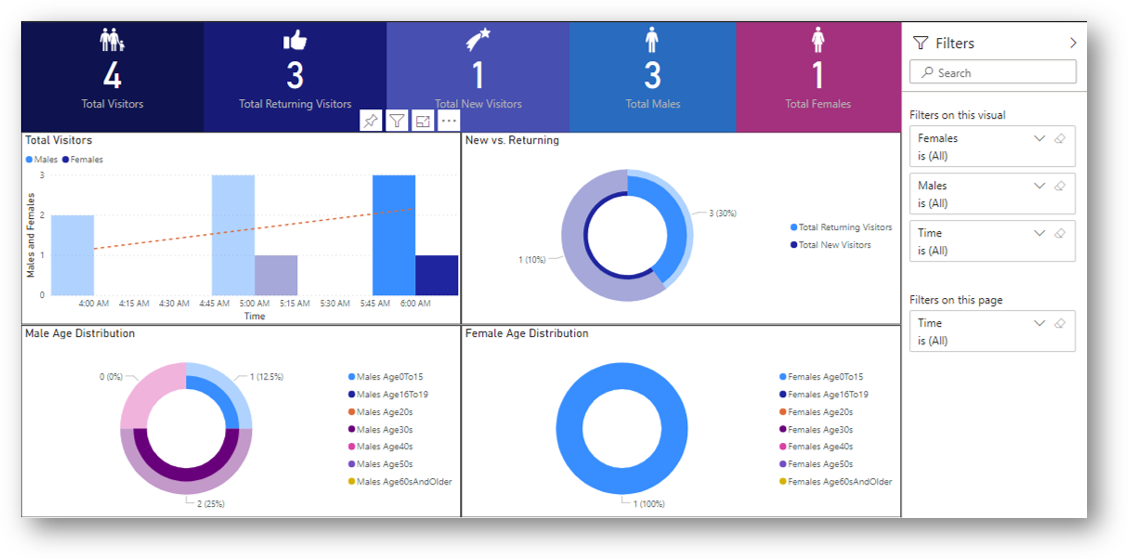

Layout of this report page (visuals, bound fields, positions):
{"tool":"powerbi","page":{"name":"Crowd Analytics","canvas":[1280,720],"ordinal":0},"visuals":[{"type":"clusteredColumnChart","title":"Total Visitors","fields":{"Category":["crowd-demographics.Document.WindowStart Hierarchy.Document.WindowStart"],"Y":["Sum(crowd-demographics.Total Males)","Sum(crowd-demographics.Document.TotalFemales)"]},"box":[0,159.7,640,280.1],"z":0},{"type":"donutChart","title":"Female Age Distribution","fields":{"Y":["Sum(crowd-demographics.Females Age0To15)","Sum(crowd-demographics.Females Age16To19)","Sum(crowd-demographics.Females Age20s)","Sum(crowd-demographics.Females Age30s)","Sum(crowd-demographics.Females Age40s)","Sum(crowd-demographics.Females Age50s)","Sum(crowd-demographics.Females Age60sAndOlder)"]},"box":[640,439.8,640,280.1],"z":1000},{"type":"donutChart","title":"Male Age Distribution","fields":{"Y":["Sum(crowd-demographics.Males Age0To15)","Sum(crowd-demographics.Males Age16To19)","Sum(crowd-demographics.Males Age20s)","Sum(crowd-demographics.Males Age30s)","Sum(crowd-demographics.Males Age40s)","Sum(crowd-demographics.Males Age50s)","Sum(crowd-demographics.Males Age60sAndOlder)"]},"box":[0,439.8,640,280.1],"z":2000},{"type":"donutChart","title":"New vs. Returning","fields":{"Y":["Sum(crowd-demographics.Total Returning Visitors)","Sum(crowd-demographics.Total New Visitors)"]},"box":[640,159.7,640,280.1],"z":3000},{"type":"card","fields":{"Values":["Sum(crowd-demographics.Total Females)"]},"box":[1038.1,0,241.9,159.7],"z":4000},{"type":"card","fields":{"Values":["Sum(crowd-demographics.Total Returning Visitors)"]},"box":[265.8,0,265.8,159.7],"z":5000},{"type":"card","fields":{"Values":["Sum(crowd-demographics.Total New Visitors)"]},"box":[531.5,0,265.8,159.7],"z":6000},{"type":"card","fields":{"Values":["Sum(crowd-demographics.Total Visitors)"]},"box":[0,0,265.8,159.7],"z":7000},{"type":"card","fields":{"Values":["Sum(crowd-demographics.Total Males)"]},"box":[797.3,0,241.9,159.7],"z":8000},{"type":"image","box":[107.6,0,50.2,50.2],"z":9000},{"type":"image","box":[374.1,0,50.2,50.2],"z":9001},{"type":"image","box":[639.4,0,50.2,50.2],"z":9002},{"type":"image","box":[892.8,0,50.2,50.2],"z":9003},{"type":"image","box":[1134.2,0,50.2,50.2],"z":9004}]}

Visuals, with their boxes on the page's 1280x720 design canvas (x1, y1, x2, y2). These are canvas units, not pixel positions in the 1128x559 screenshot, which may show the page scaled, cropped or inside an application window:
"Total Visitors" clusteredColumnChart: 0 160 640 440
"Female Age Distribution" donutChart: 640 440 1280 720
"Male Age Distribution" donutChart: 0 440 640 720
"New vs. Returning" donutChart: 640 160 1280 440
card - Sum(crowd-demographics.Total Females): 1038 0 1280 160
card - Sum(crowd-demographics.Total Returning Visitors): 266 0 532 160
card - Sum(crowd-demographics.Total New Visitors): 532 0 797 160
card - Sum(crowd-demographics.Total Visitors): 0 0 266 160
card - Sum(crowd-demographics.Total Males): 797 0 1039 160
image: 108 0 158 50
image: 374 0 424 50
image: 639 0 690 50
image: 893 0 943 50
image: 1134 0 1184 50
